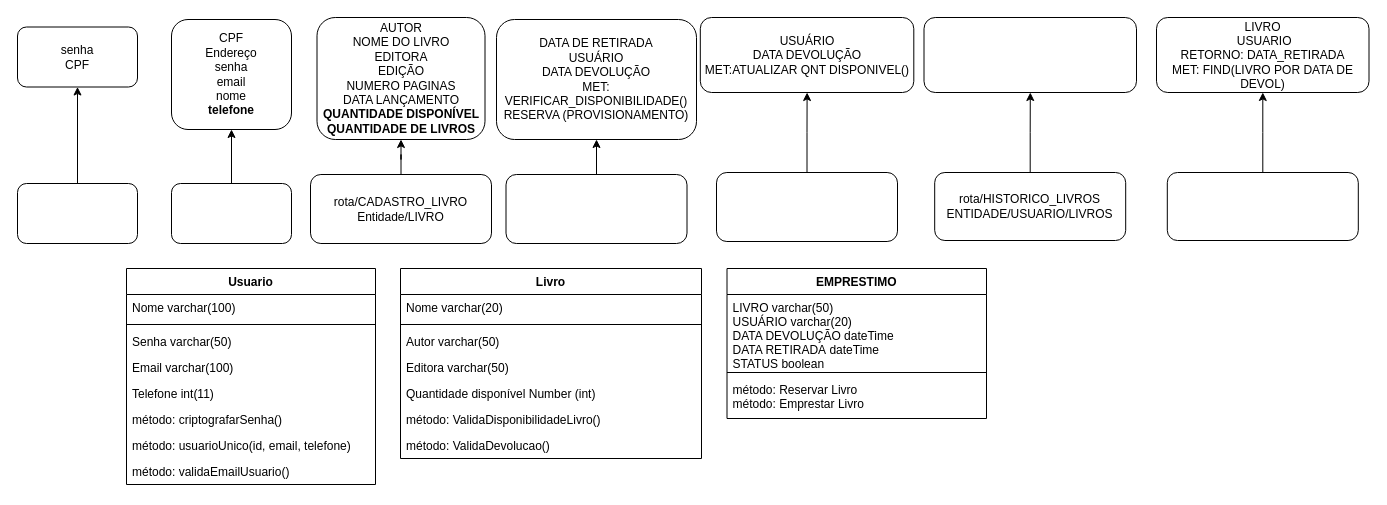
Some shapes in this 1387 by 505 pixel diagram are drawn without their labels. The shapes that lost their labels are listed below. From the top down, each one's centre as x and y in pixels, then its label:
point 1029,54: USUÁRIO LIVROS STATUS (DEVOLVIDO, A DEVOLVER) DATAS RETIRADA E DEVOLUCAO
point 77,213: rota/LOGIN Entidade/USUARIO
point 231,213: rota/CADASTRO Entidade/USUARIO
point 596,209: rota/EMPRESTAR_LIVRO Entidade/LIVRO
point 807,207: rota/DEVOLUCAO Entidade/LIVRO
point 1262,206: rota/RESERVAR_LIVRO ENTIDADE/USUARIO/LIVROS
